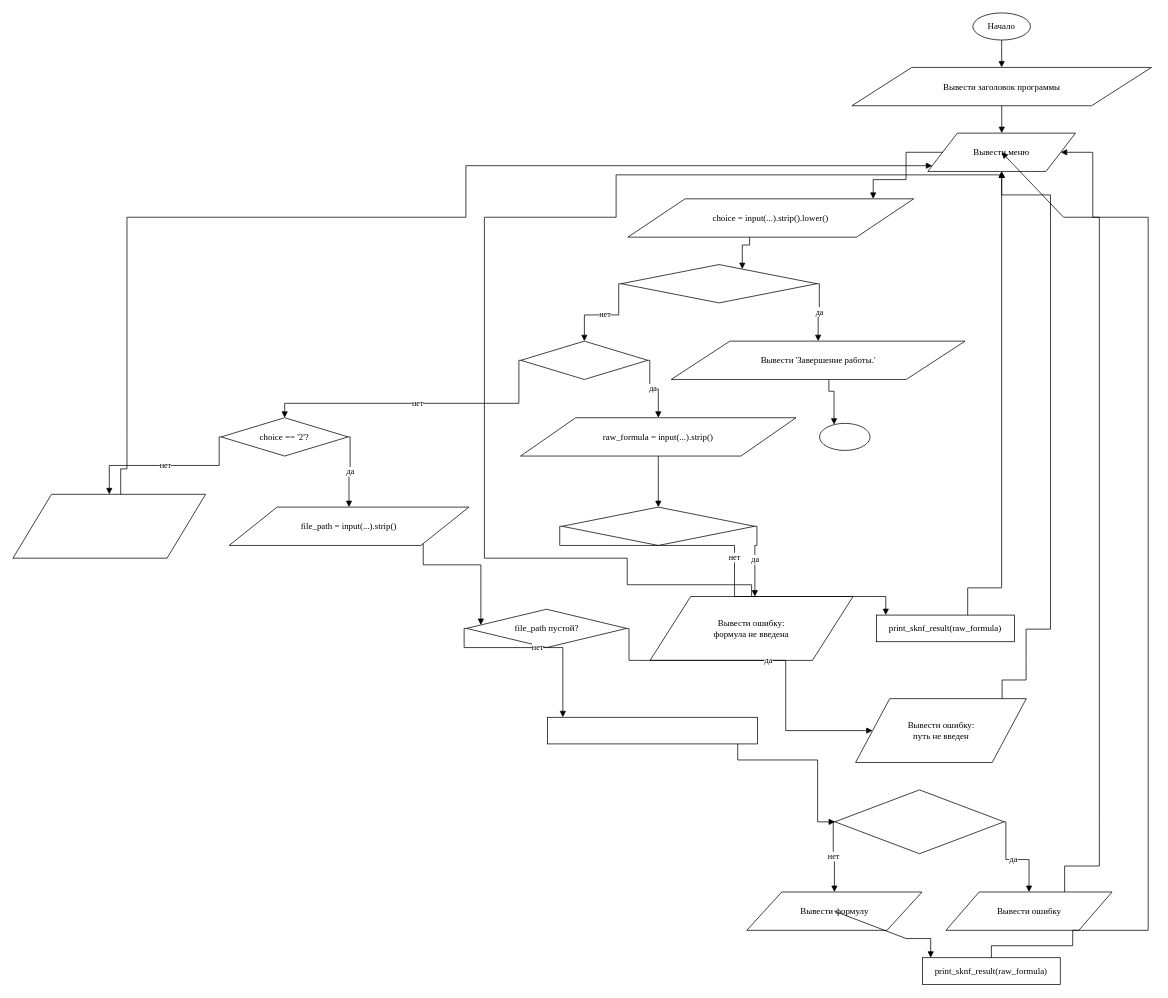
Some shapes in this 1168 by 998 pixel diagram are drawn without their labels. The shapes that lost their labels are listed below. From the top down, each one's box as (x1, y1, x2, y2) in pixels, then its label:
(620, 264, 817, 303): choice в {'0', 'exit', ''}?
(520, 340, 648, 379): choice == '1'?
(819, 423, 870, 450): Конец
(12, 494, 206, 558): Вывести ошибку: выберите 1, 2 или 0
(561, 506, 755, 545): raw_formula пустая?
(547, 717, 757, 744): raw_formula = load_formula_from_file(file_path)
(834, 789, 1004, 854): ошибка чтения или пустой файл?
